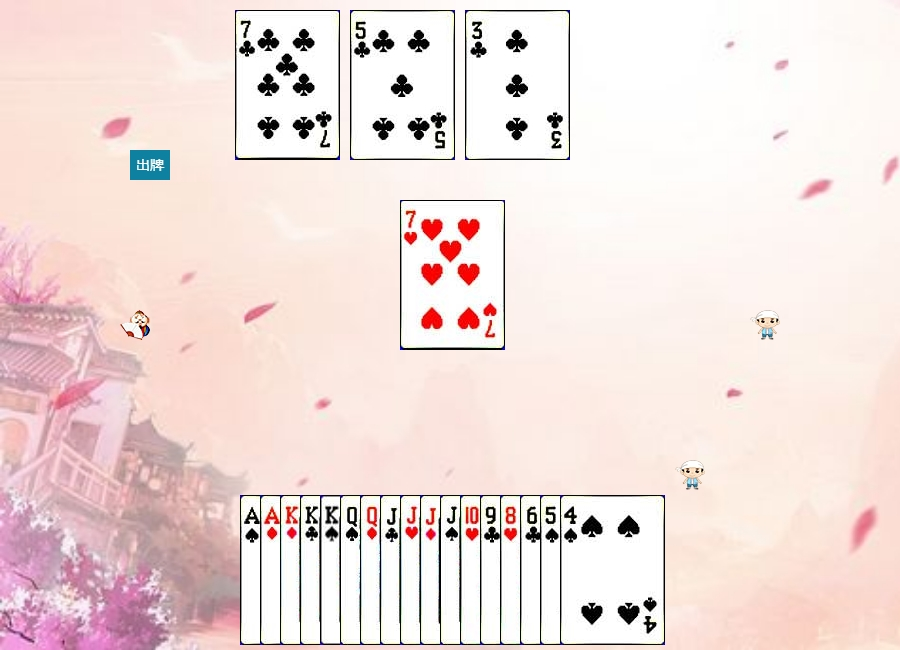10~3: (460, 495, 565, 645)
11~1: (420, 495, 525, 645)
11~2: (380, 495, 485, 645)
11~3: (400, 495, 505, 645)
11~4: (440, 495, 545, 645)
12~1: (360, 495, 465, 645)
12~4: (340, 495, 445, 645)
13~1: (280, 495, 385, 645)
13~2: (300, 495, 405, 645)
13~4: (320, 495, 425, 645)
14~1: (260, 495, 365, 645)
14~4: (240, 495, 345, 645)
3~2: (465, 10, 570, 160)
4~4: (560, 495, 665, 645)
5~2: (350, 10, 455, 160)
5~4: (540, 495, 645, 645)
6~2: (520, 495, 625, 645)
7~2: (235, 10, 340, 160)
7~3: (400, 200, 505, 350)
8~3: (500, 495, 605, 645)
9~2: (480, 495, 585, 645)
